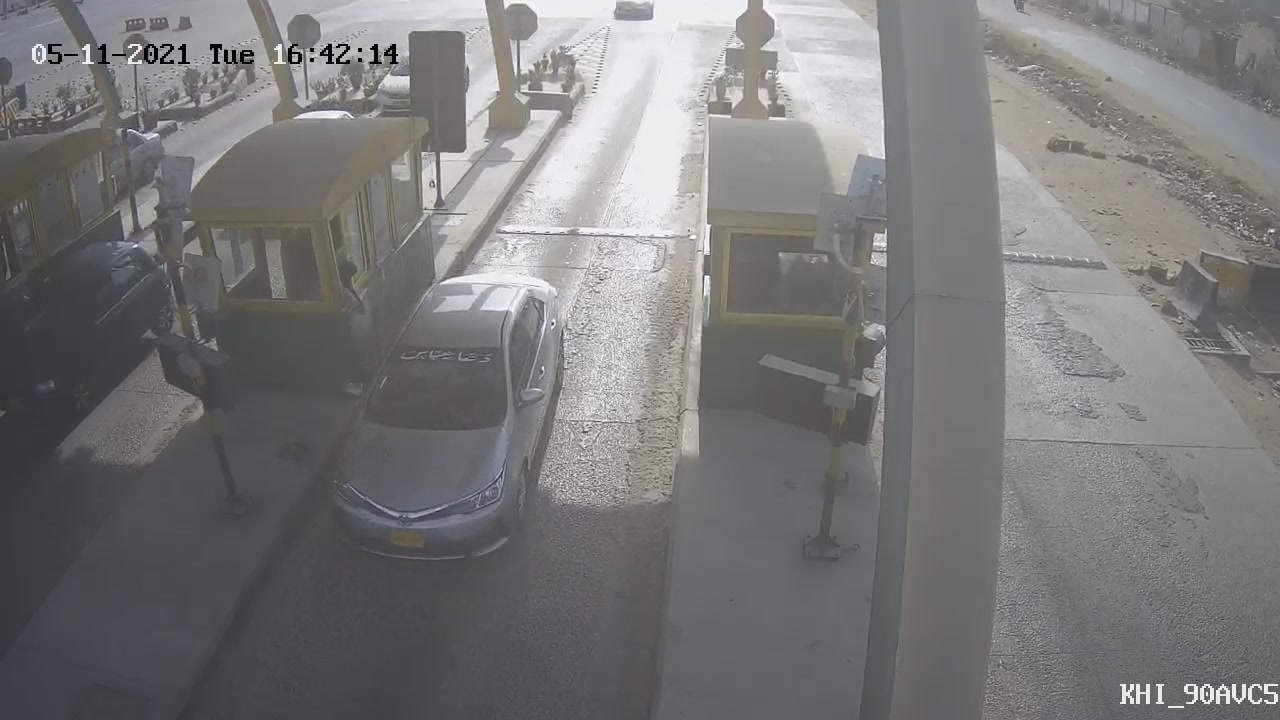F1: (309, 253, 587, 585)
